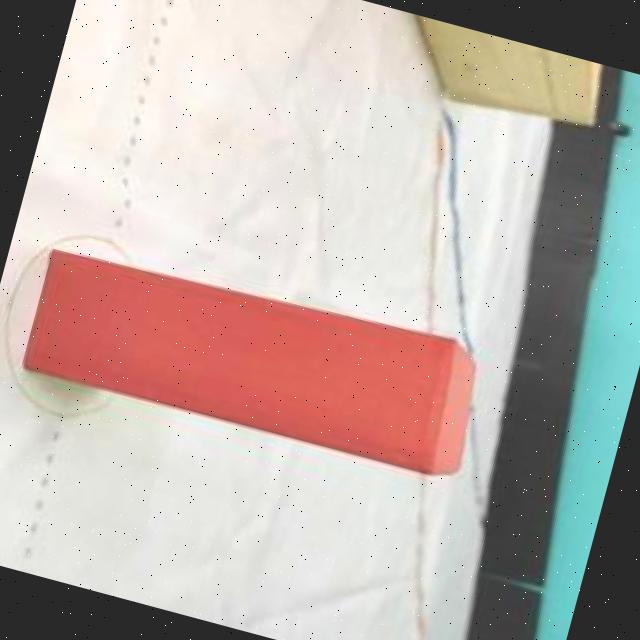redbox: (17, 228, 492, 482)
